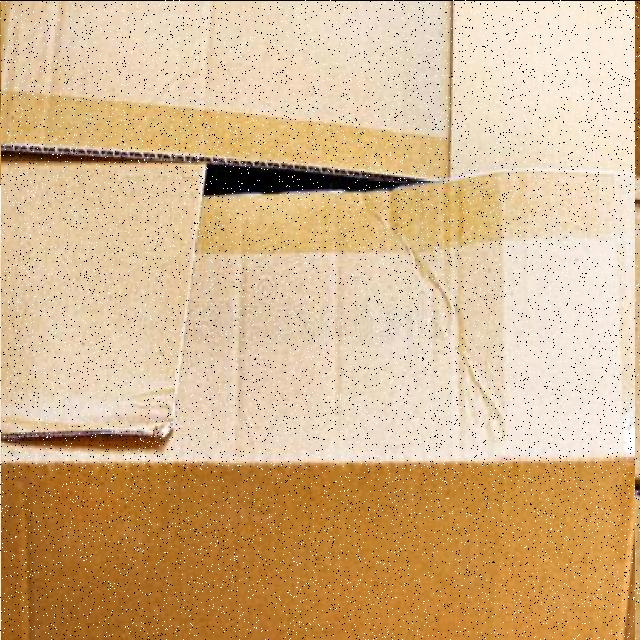defect: (1, 0, 635, 639)
